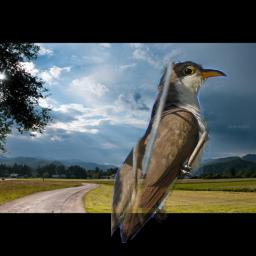Cuckoo: (111, 61, 255, 243)
